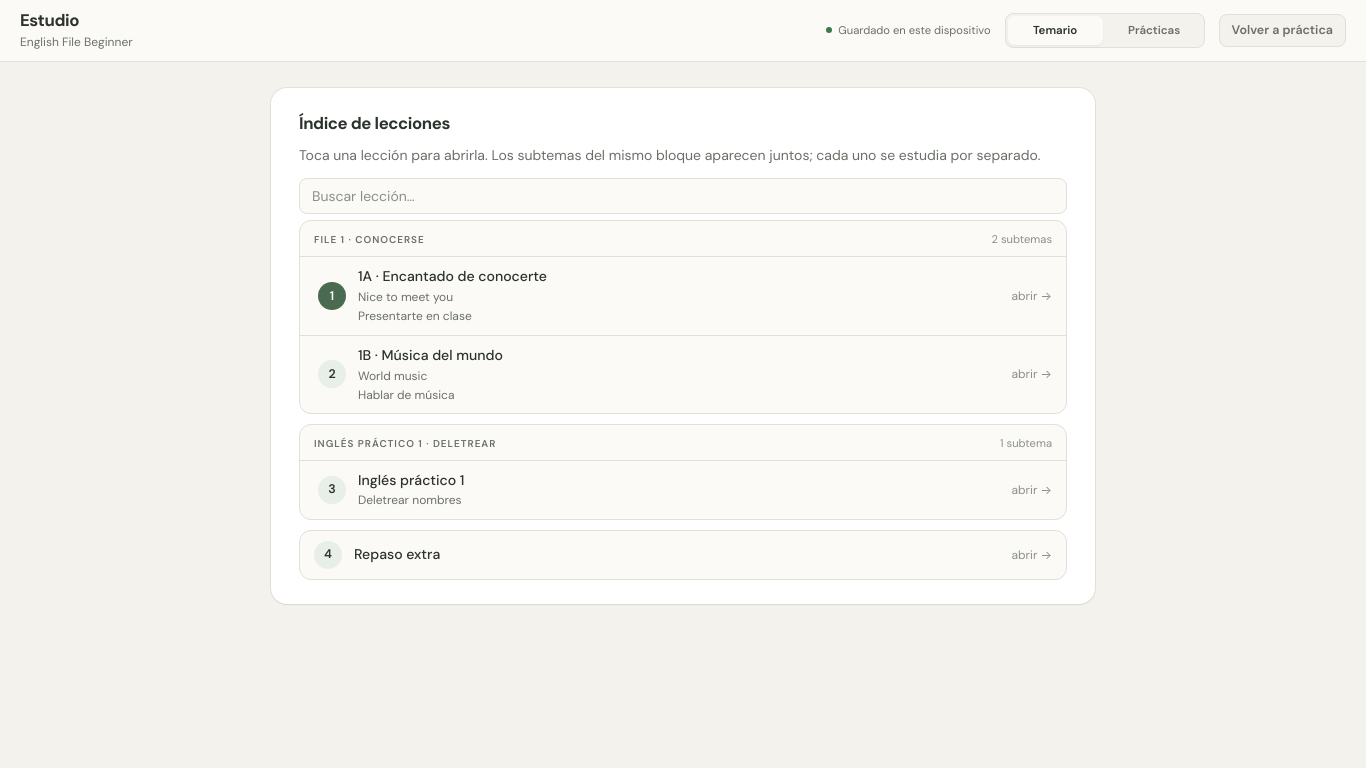
Test case: StudyScreen › marks the bookmarked lesson as current and leaves the rest pending
This screenshot has width=1366, height=768.
Step 1. Click the button with class "indice-fila" that starts with "1A · Encantado de conocerte" → (356,305), box [300,256,1066,335]
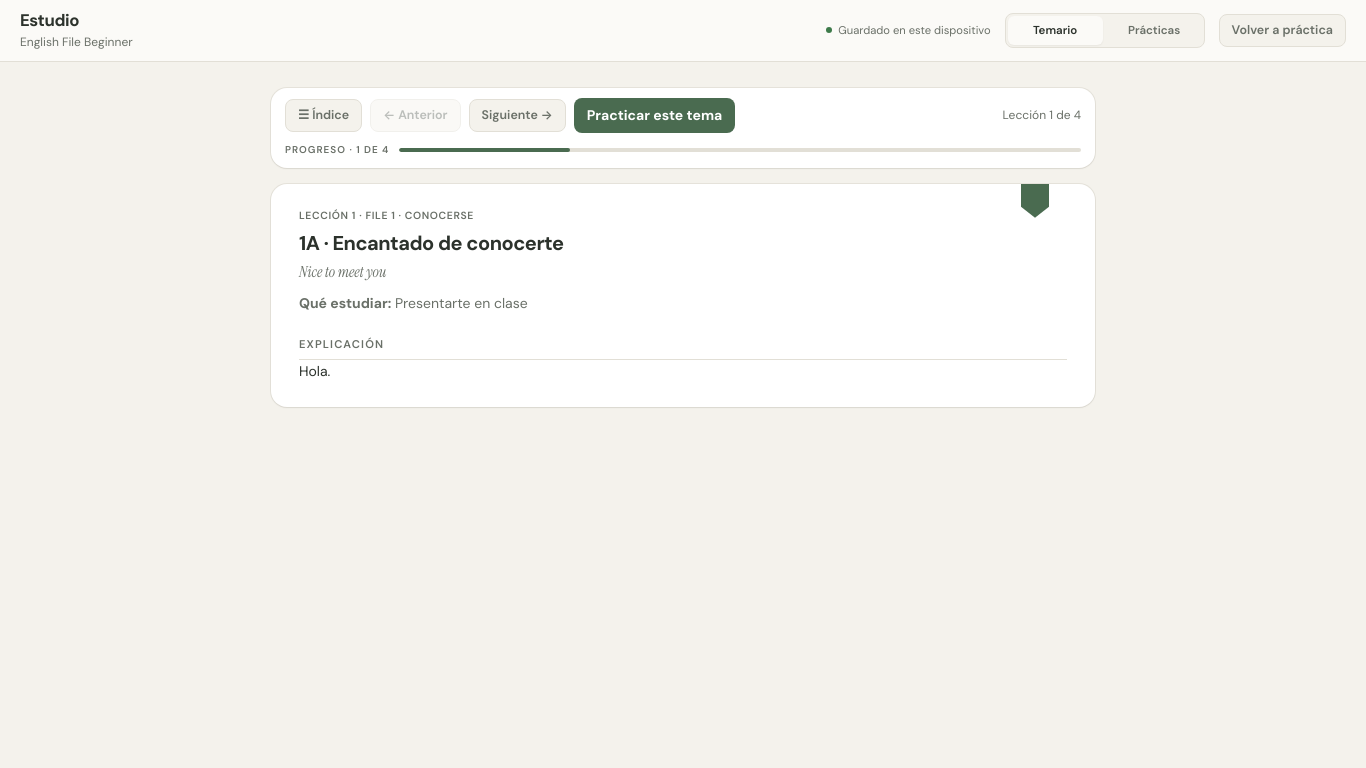
Step 2. Click the button named "Poner marcapáginas en esta lección" → (1035,201), box [1021,184,1049,218]
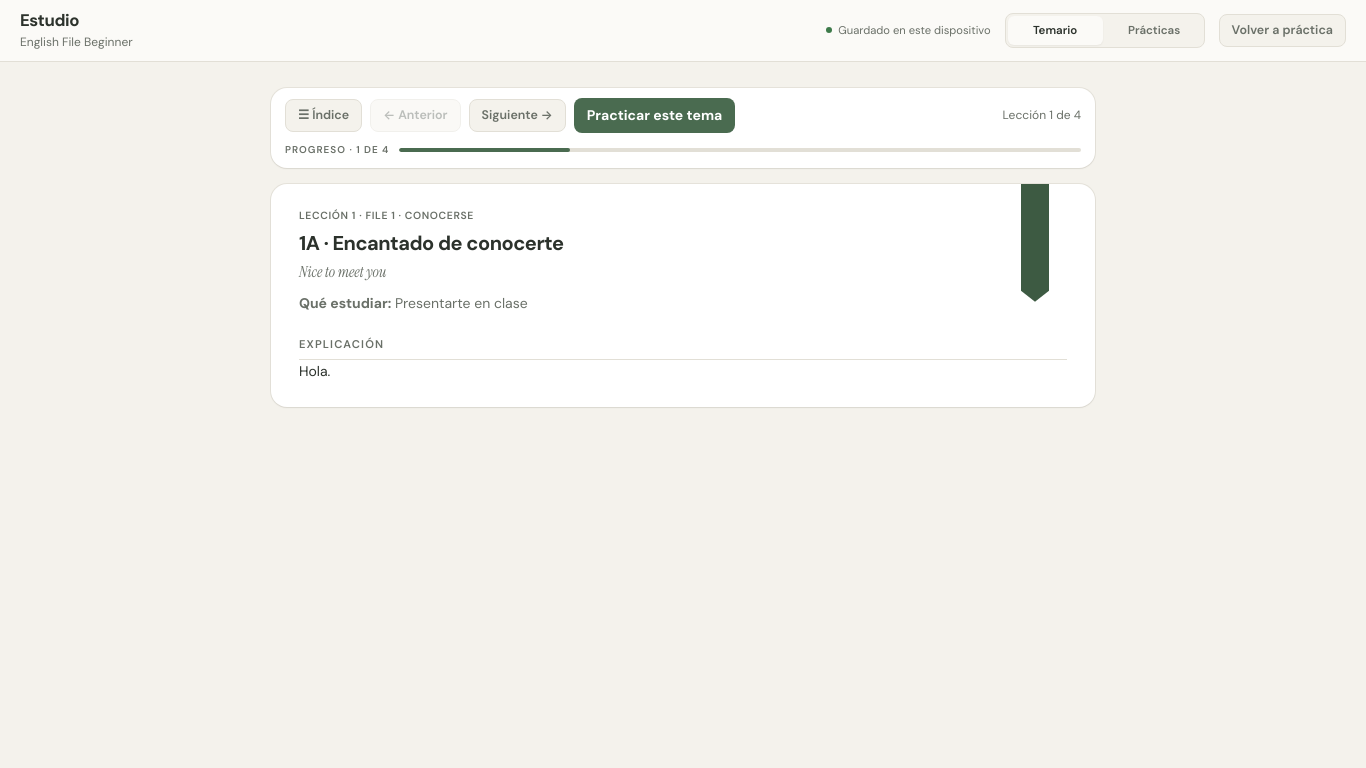
Step 3. Click the button "☰ Índice" → (324,115), box [285,99,362,132]
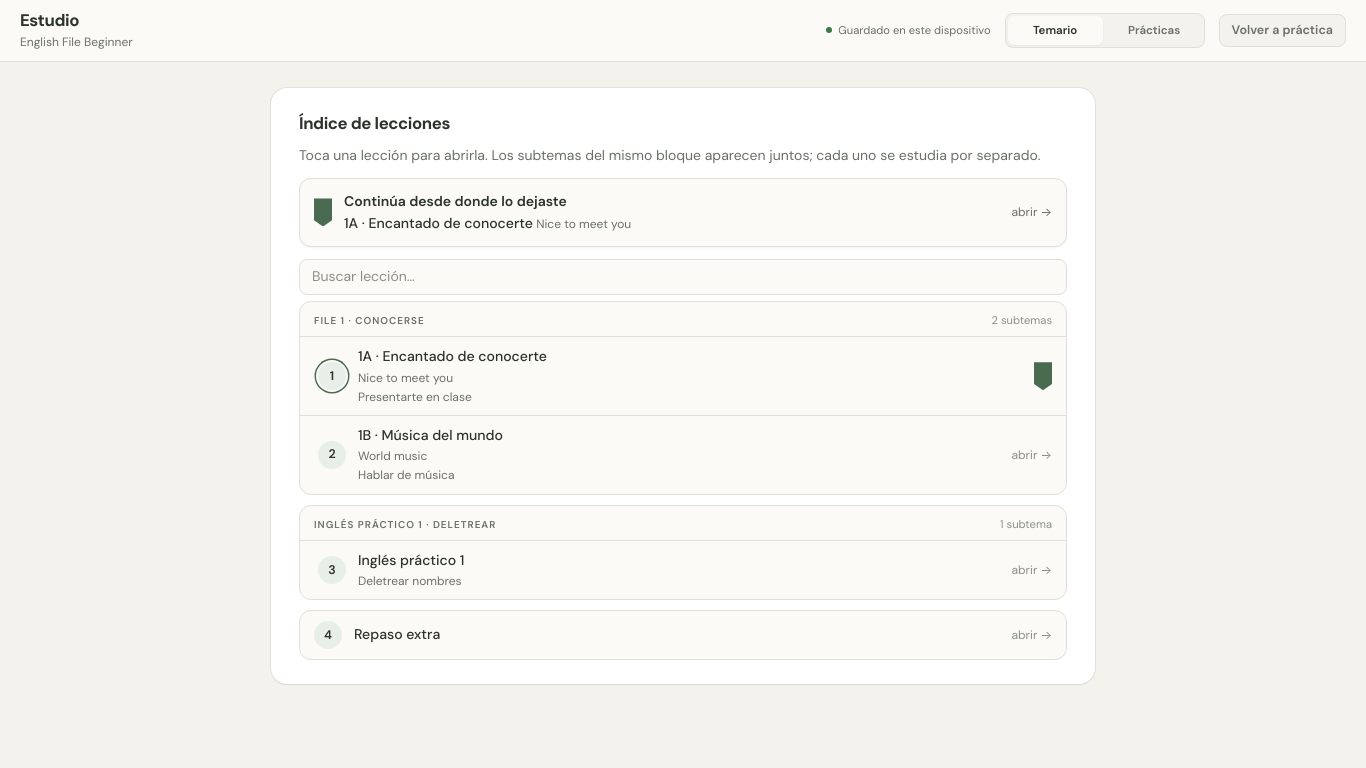
Expected: the element with class "indice-fila" does not show "marcapáginas aquí"
Now the element with class "indice-fila-cinta" is shown, box [1034,362,1052,390]
